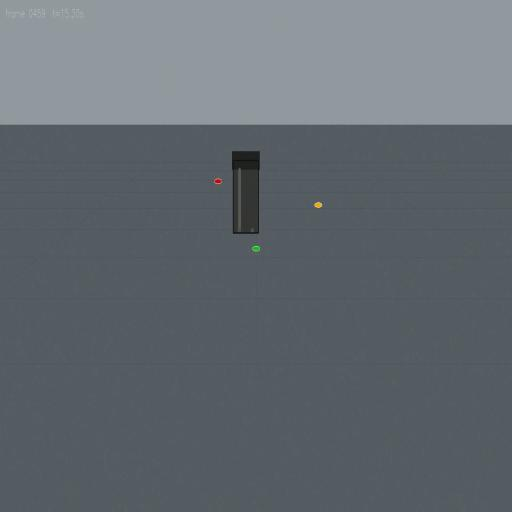bin: (232, 150, 260, 234)
